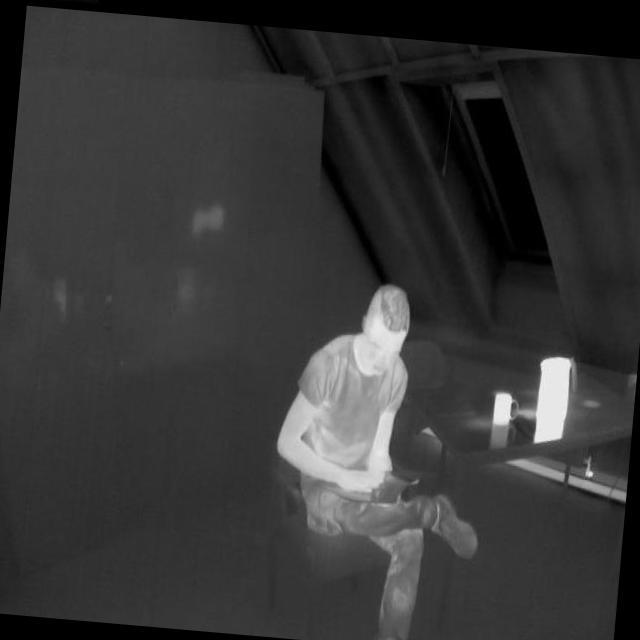person: (257, 267, 503, 640)
